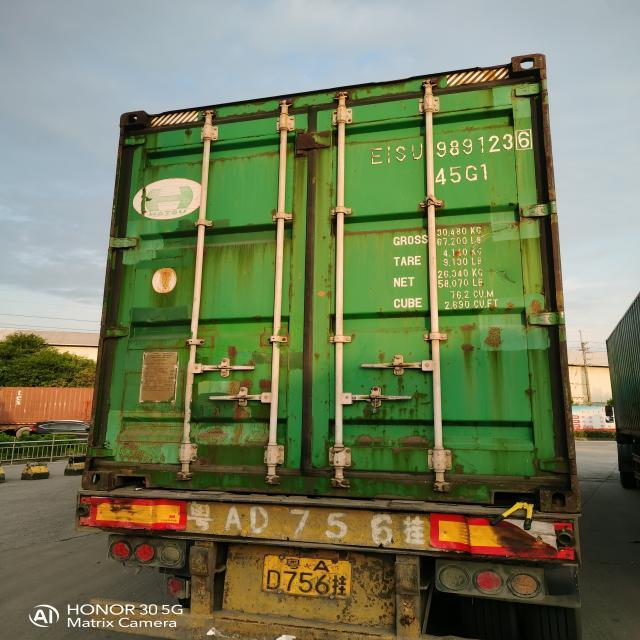ISO: (437, 162, 488, 185)
container_number: (368, 132, 530, 161)
